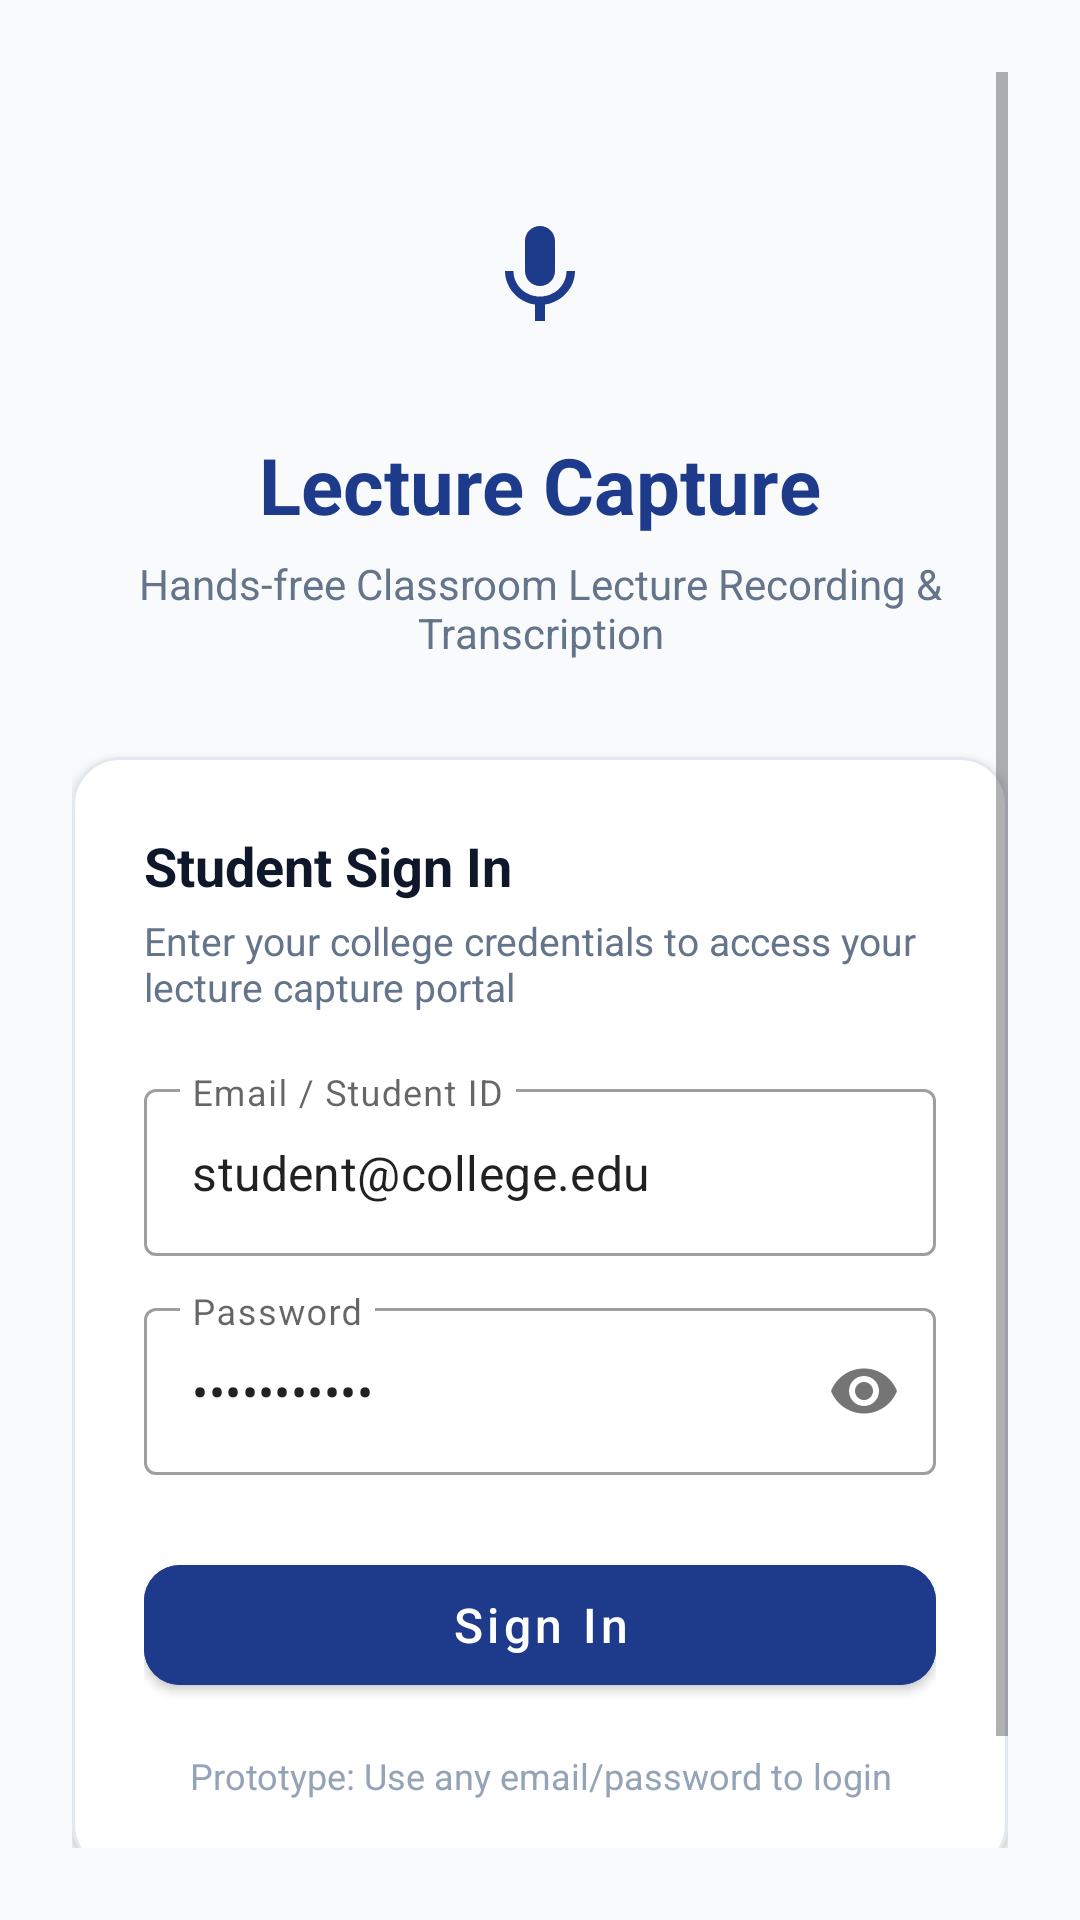

Icons on this 1080 × 1920 Android screen, each with the point to tap as point (x, y):
mic: point (540, 273)
